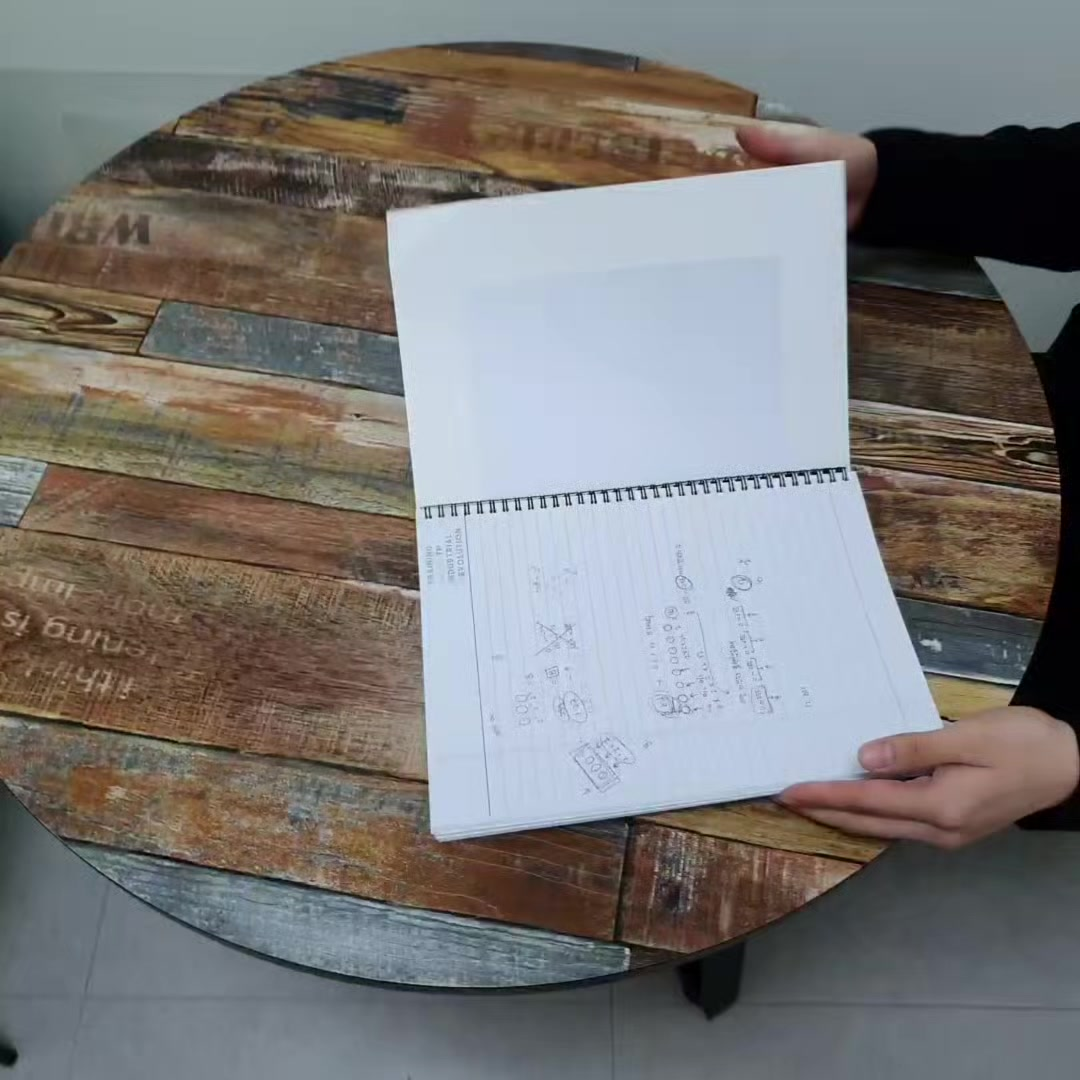book: (378, 154, 949, 841)
